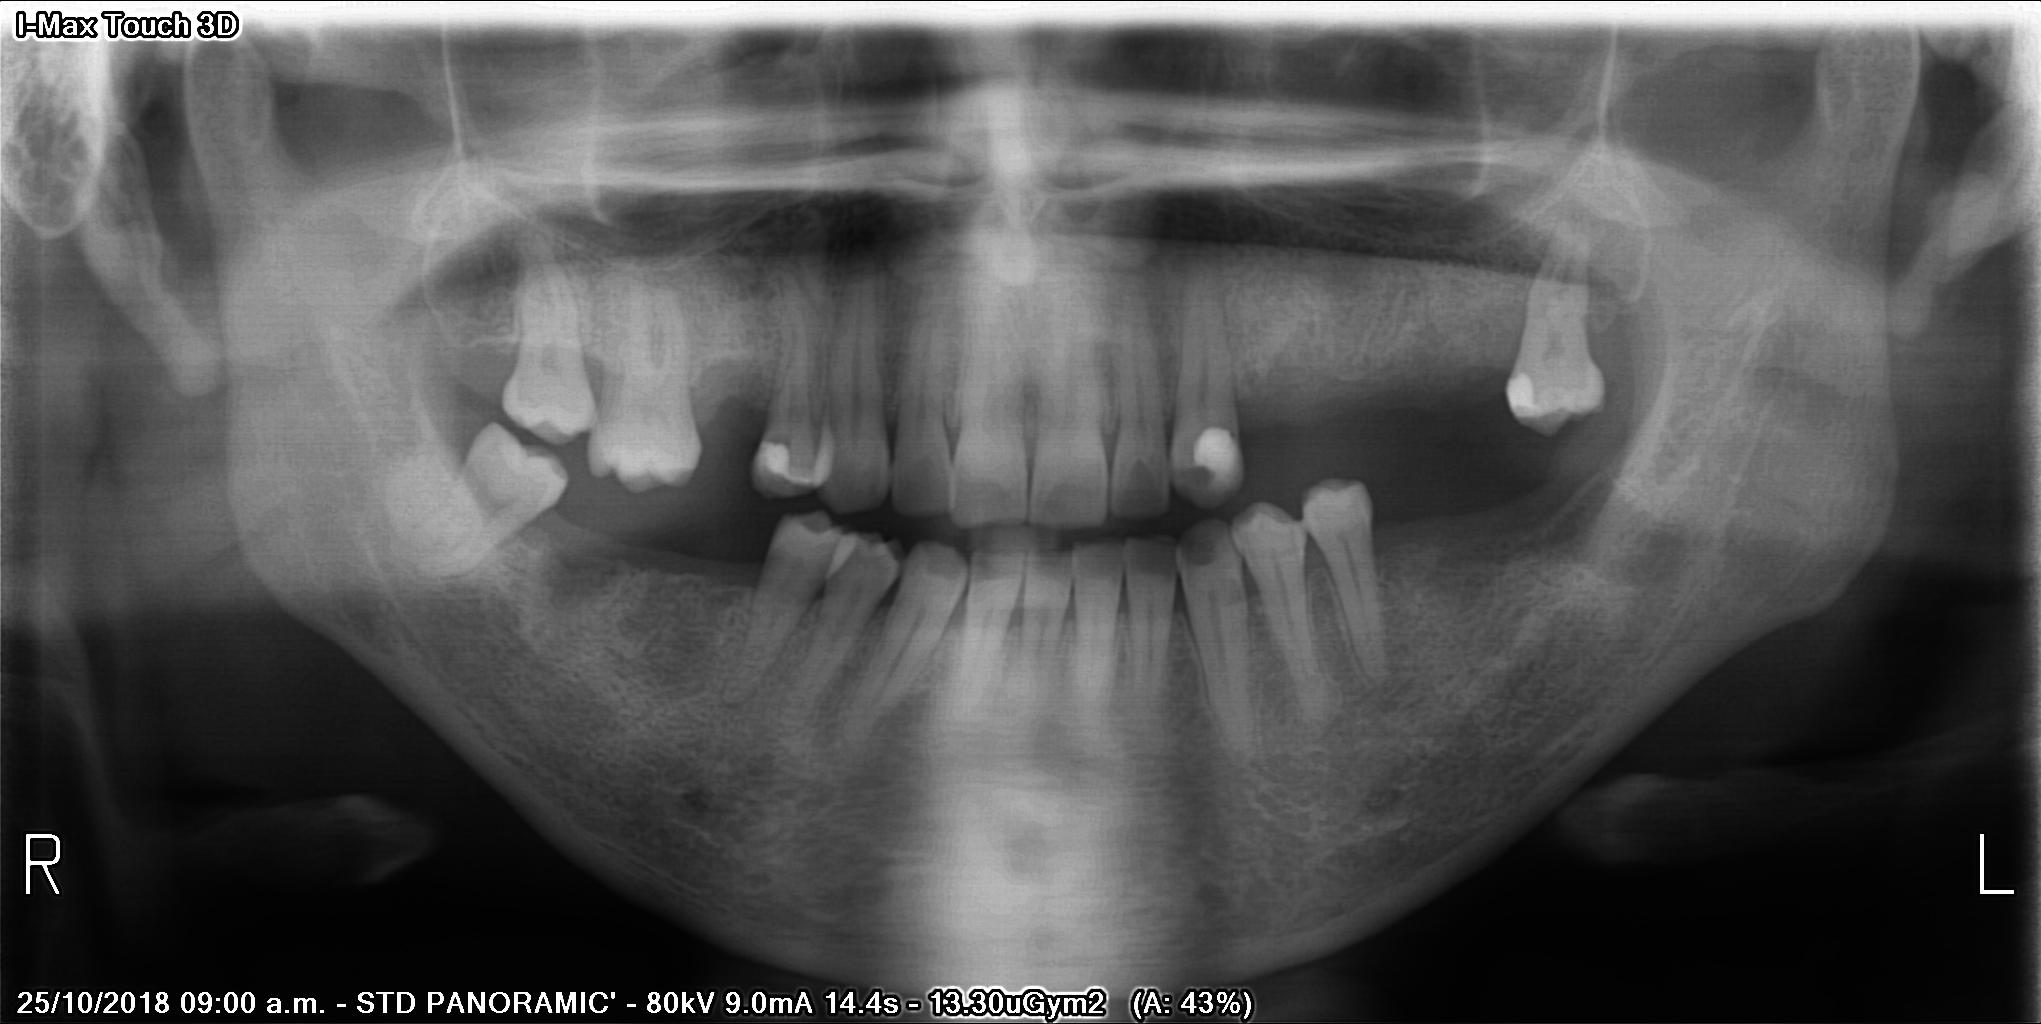Çürük: (1184, 411, 1252, 487), (746, 440, 824, 499), (1503, 372, 1546, 415)
Çürük Bölgesi: (1177, 532, 1234, 573), (767, 426, 794, 457)
